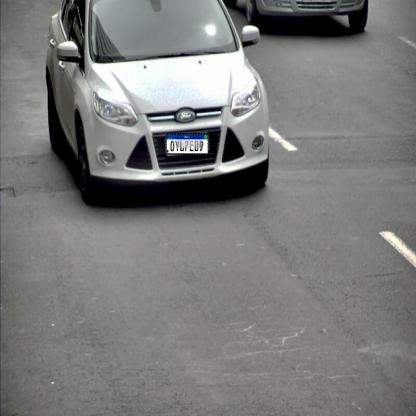PlacaM: (166, 133, 208, 155)
